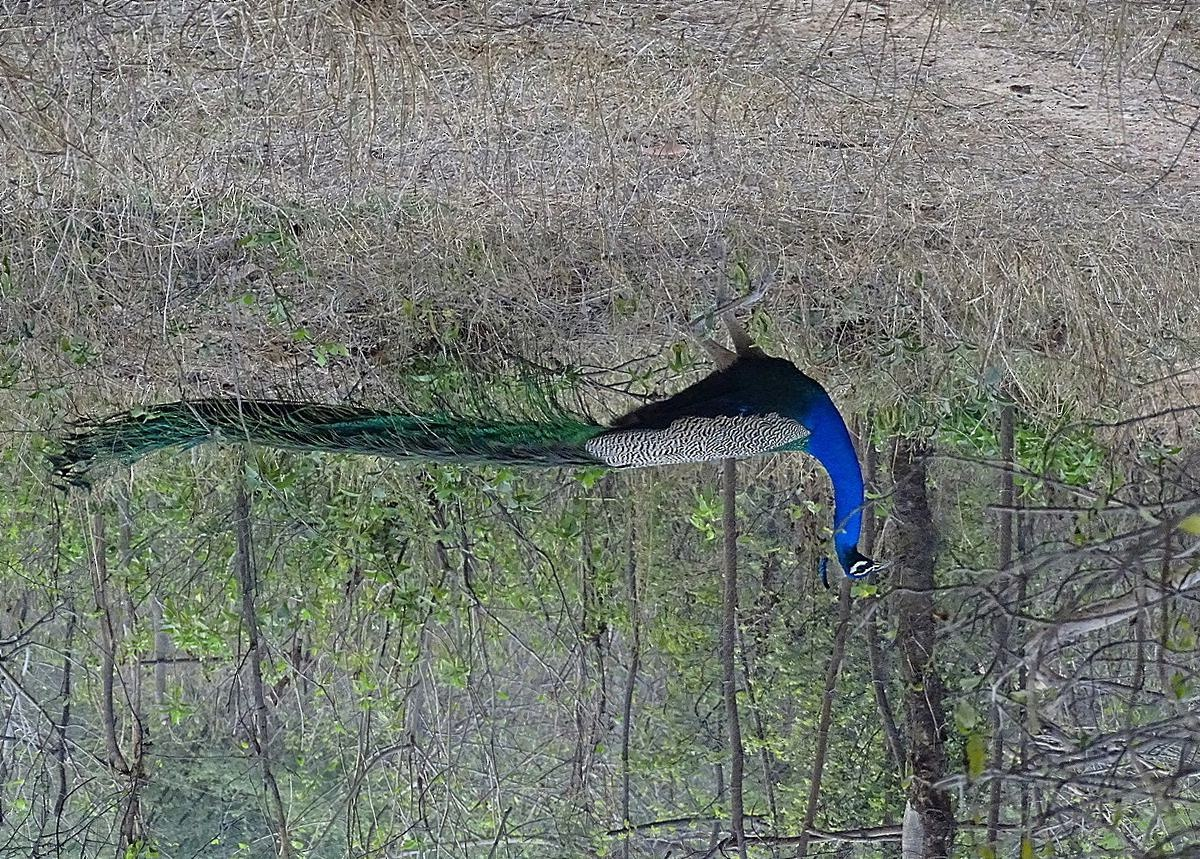peacock: (21, 250, 964, 603)
